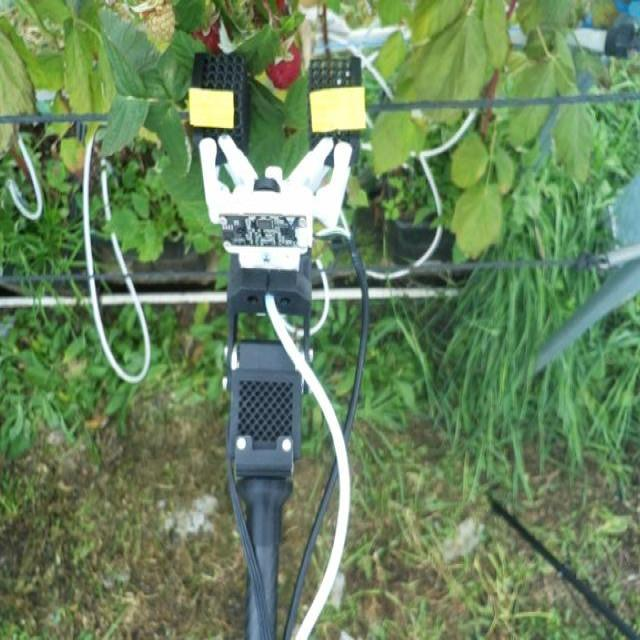Riped berries: (264, 36, 302, 91), (191, 11, 229, 52)
